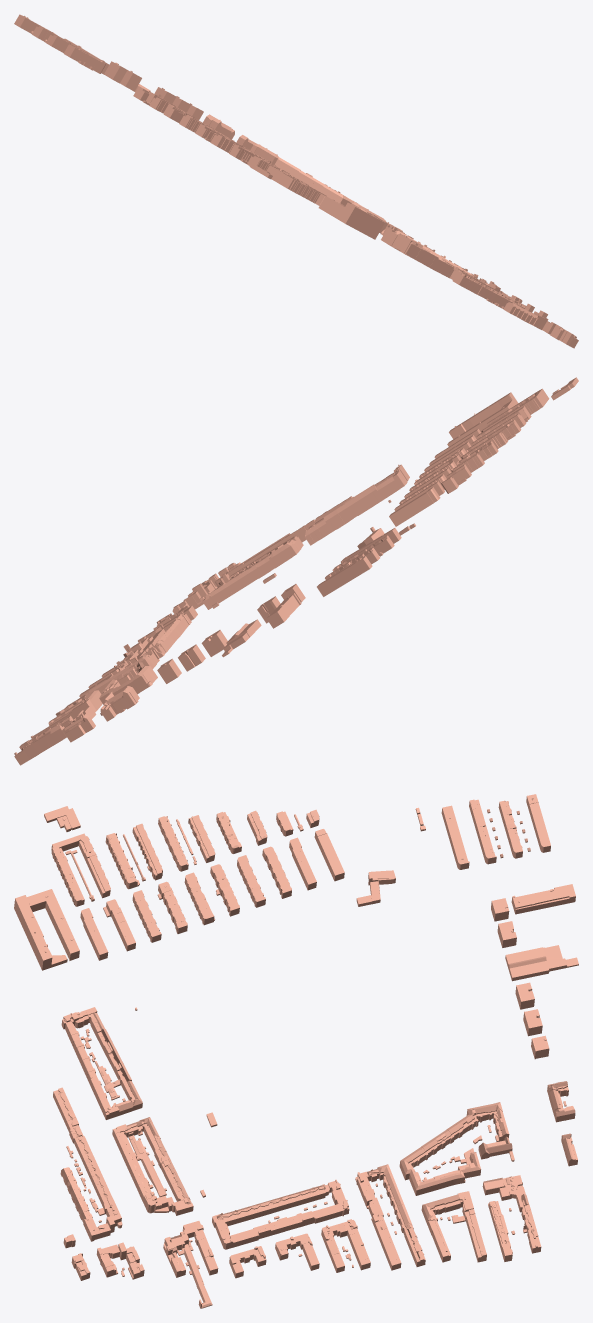
The picture shows the model from 3 angles, top to bottom: view 1: azimuth 30°, elevation 25°; view 2: azimuth 150°, elevation 25°; view 3: azimuth 270°, elevation 25°; orthographic projection. The views are drawn at different scales.
Bounding box in the file's own units: 1.84e+07 × 1.35e+07 × 2.17e+07.
